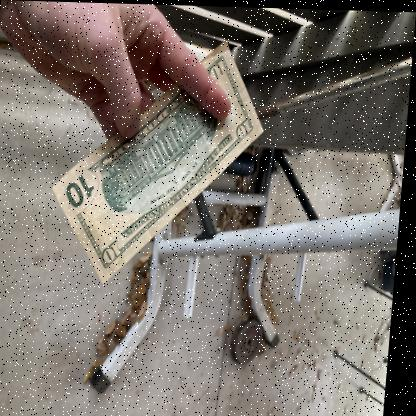ten-back: (52, 43, 264, 285)
